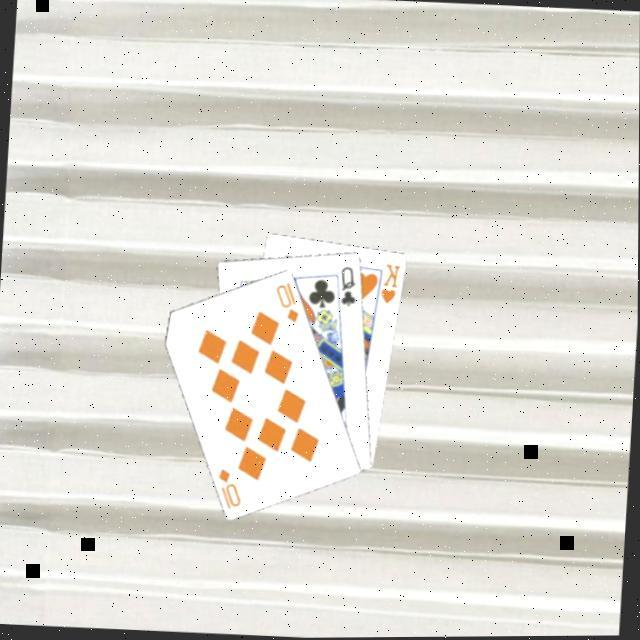10D: (212, 463, 245, 512), (270, 277, 302, 325)
KH: (376, 259, 402, 306)
QC: (335, 262, 359, 309)
